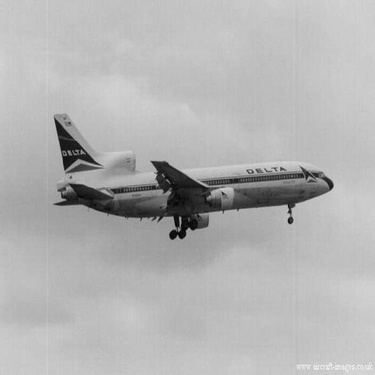airplane: (32, 103, 336, 244)
